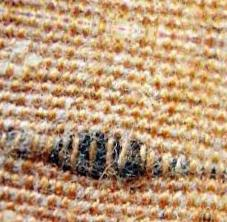slub: (4, 129, 225, 183)
